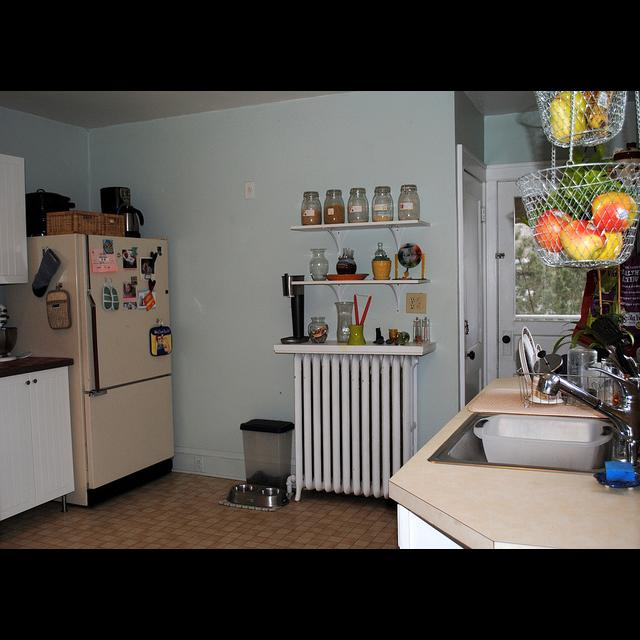Refrigerator: (2, 236, 179, 510)
